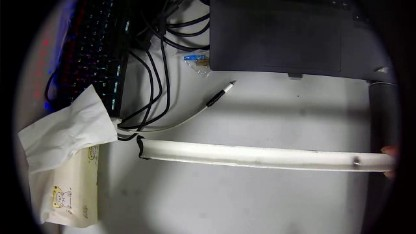gangzhu: (349, 154, 362, 167)
